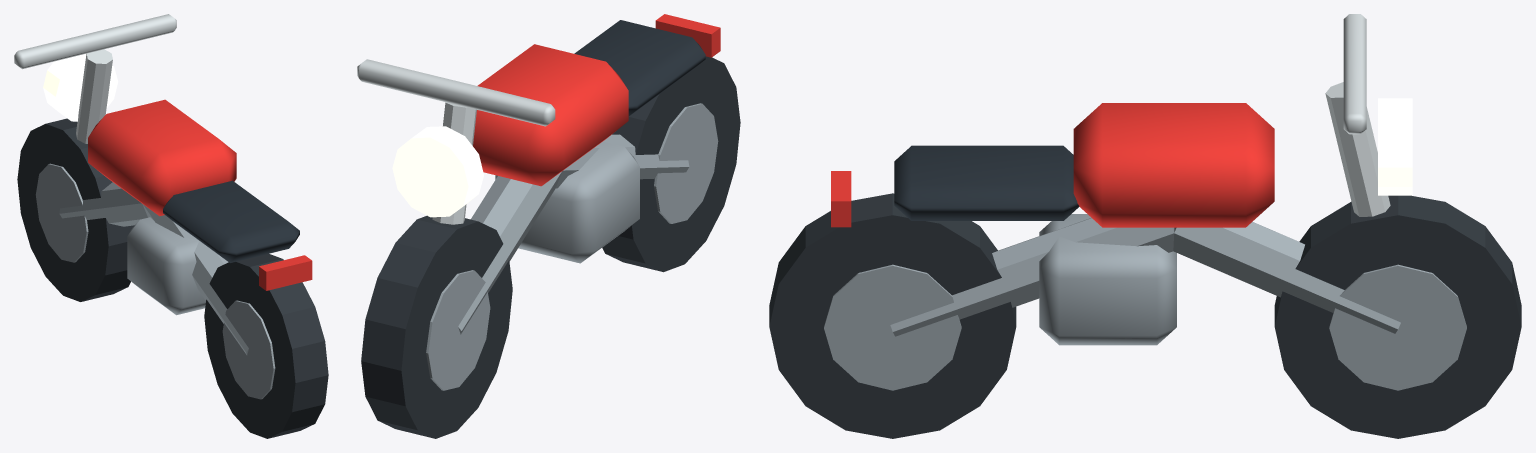
Rendered from motorcycle.glb.
3 views of the same model, side by side, from view 1: azimuth 30°, elevation 25°; view 2: azimuth 150°, elevation 25°; view 3: azimuth 270°, elevation 25° (orthographic). The views are drawn at different scales.
Visible parts, largest first — view 1: motorcycle_tire, motorcycle_tank, motorcycle_tire.001, motorcycle_seat, motorcycle_engine, motorcycle_hub, motorcycle_hub.001, motorcycle_handlebar, motorcycle_headlight, motorcycle_front_fork, motorcycle_frame_rear, motorcycle_frame_front (+1 smaller); view 2: motorcycle_tire.001, motorcycle_tank, motorcycle_tire, motorcycle_engine, motorcycle_headlight, motorcycle_seat, motorcycle_hub.001, motorcycle_hub, motorcycle_handlebar, motorcycle_frame_front, motorcycle_frame_rear, motorcycle_rear_lamp (+1 smaller); view 3: motorcycle_tire.001, motorcycle_tire, motorcycle_tank, motorcycle_engine, motorcycle_seat, motorcycle_hub, motorcycle_hub.001, motorcycle_frame_front, motorcycle_frame_rear, motorcycle_front_fork, motorcycle_headlight, motorcycle_handlebar (+1 smaller).
Boxes of the visible parts, x1,y1,x2,y2 form: motorcycle_tire: (204,253,328,438); motorcycle_tank: (88,99,236,216); motorcycle_tire.001: (17,118,134,301); motorcycle_seat: (163,180,299,262); motorcycle_engine: (127,217,205,315); motorcycle_hub: (222,300,275,399); motorcycle_hub.001: (35,163,88,262); motorcycle_handlebar: (14,14,176,69); motorcycle_headlight: (43,54,118,121); motorcycle_front_fork: (76,49,112,143); motorcycle_frame_rear: (142,204,248,355); motorcycle_frame_front: (59,182,147,226); motorcycle_tire.001: (361,215,512,438); motorcycle_tank: (473,44,628,186); motorcycle_tire: (602,56,740,272); motorcycle_engine: (495,141,639,263); motorcycle_headlight: (392,126,483,217); motorcycle_seat: (574,20,705,116); motorcycle_hub.001: (426,270,490,390); motorcycle_hub: (654,103,718,223); motorcycle_handlebar: (357,59,555,126); motorcycle_frame_front: (458,171,561,334); motorcycle_frame_rear: (556,134,689,188); motorcycle_rear_lamp: (655,14,720,57); motorcycle_tire.001: (1274,195,1521,438); motorcycle_tire: (769,193,1016,438); motorcycle_tank: (1073,103,1274,227); motorcycle_engine: (1039,214,1176,345); motorcycle_seat: (894,145,1079,220); motorcycle_hub: (824,264,961,390); motorcycle_hub.001: (1329,264,1466,390); motorcycle_frame_front: (1173,222,1400,333); motorcycle_frame_rear: (890,218,1174,336); motorcycle_front_fork: (1325,82,1390,216); motorcycle_headlight: (1378,98,1412,195); motorcycle_handlebar: (1343,14,1366,134).
Bounding box in the file's own units: 0.86 × 1.4 × 2.62.
